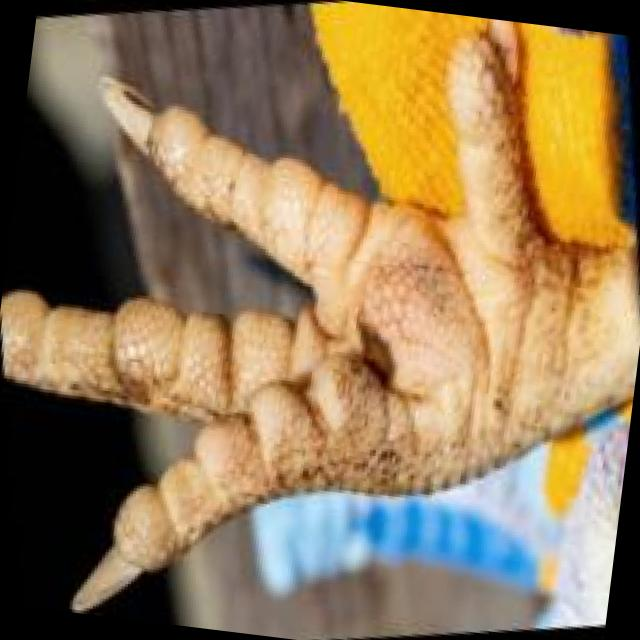Bumble foot: (67, 152, 581, 616)
